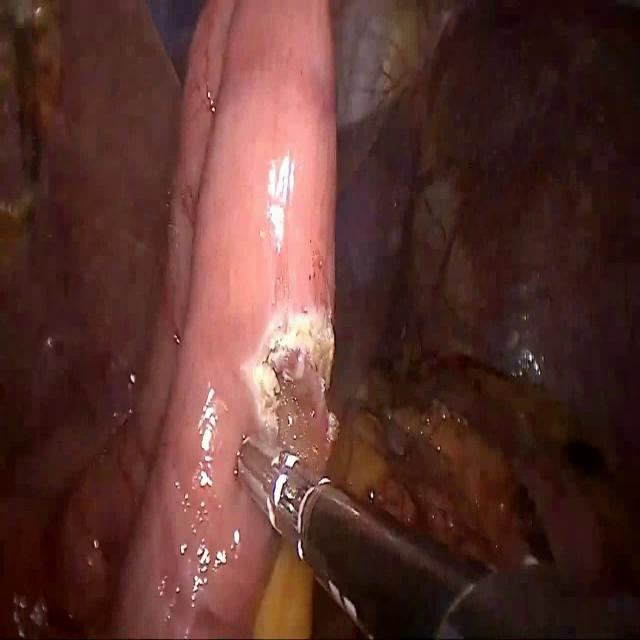surgical-tool: (234, 431, 556, 639)
